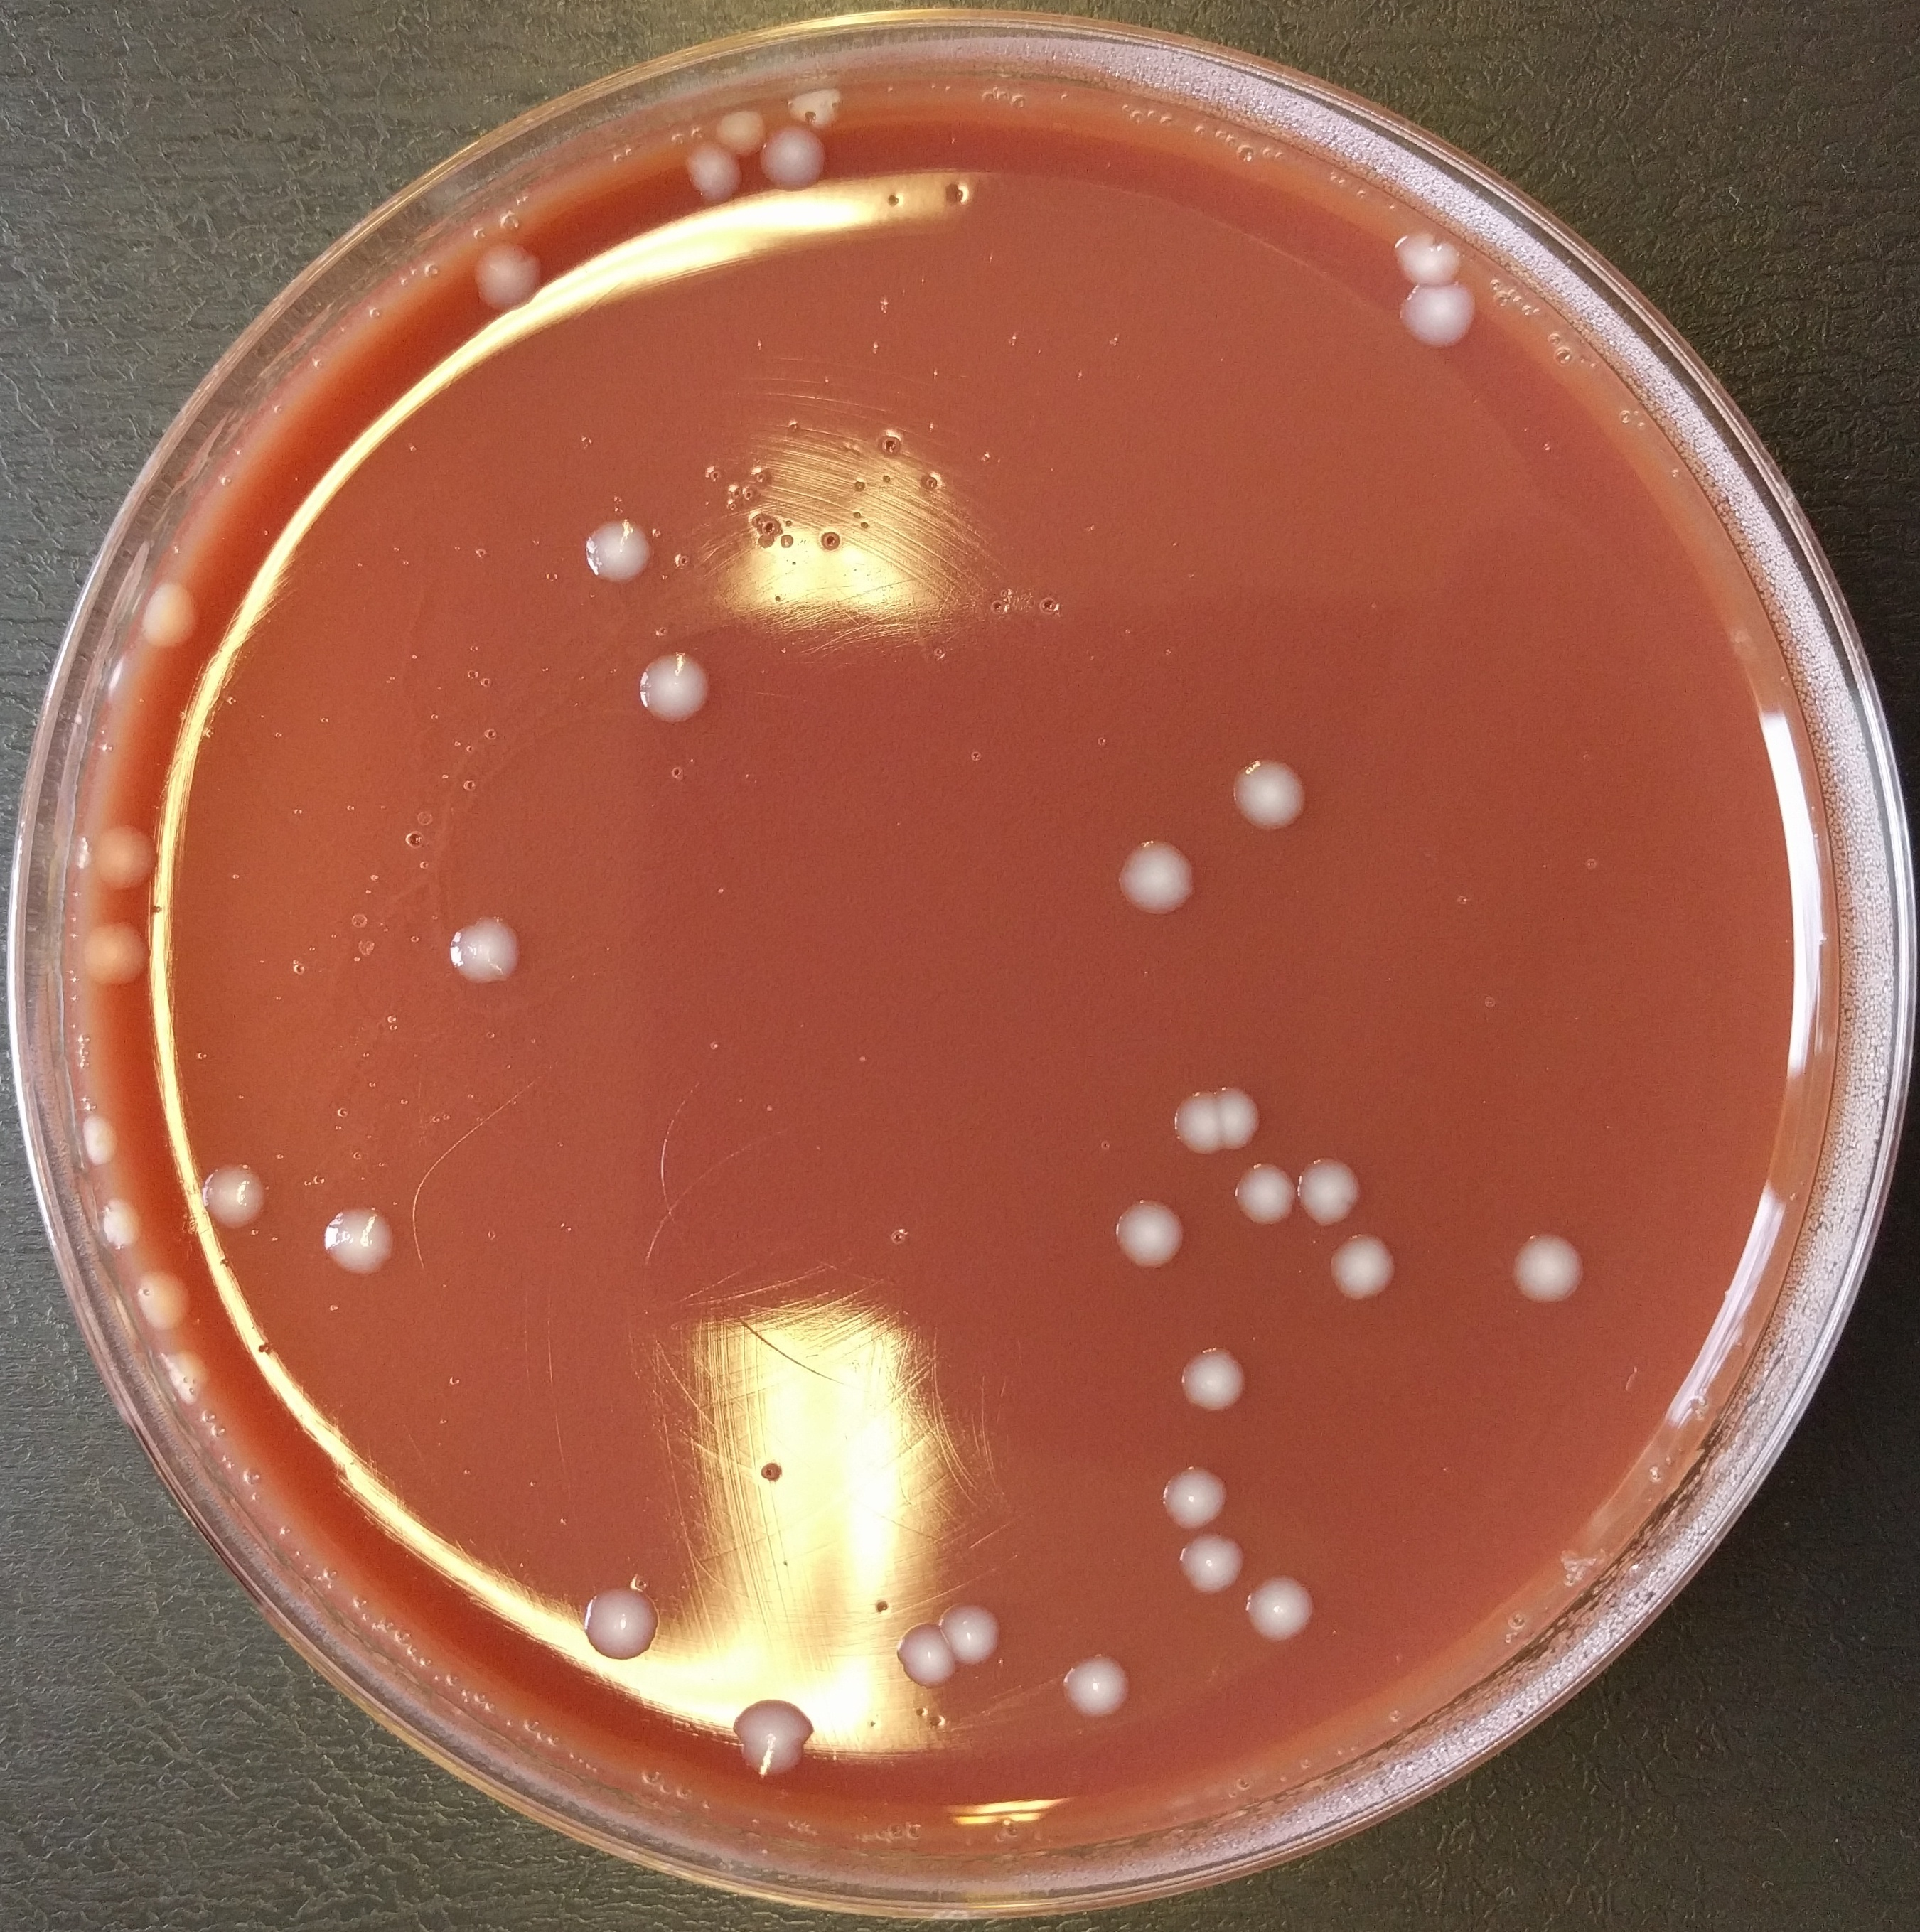sp02: (1085, 812, 1220, 933), (1225, 1536, 1340, 1658), (1218, 728, 1326, 853), (730, 1681, 837, 1795), (1317, 1213, 1426, 1324), (571, 1561, 682, 1668), (635, 622, 731, 730), (1043, 1638, 1150, 1735), (867, 1600, 964, 1702), (1233, 1132, 1315, 1250), (320, 1192, 425, 1282), (1159, 1522, 1262, 1612), (1503, 1202, 1593, 1303), (1384, 283, 1489, 367), (1138, 1456, 1245, 1538), (1106, 1185, 1199, 1278), (476, 216, 563, 316), (941, 1579, 1030, 1672), (1380, 207, 1473, 290), (1159, 1069, 1236, 1162), (70, 914, 156, 997), (441, 918, 545, 986), (1303, 1136, 1382, 1225), (88, 816, 176, 895), (751, 121, 851, 190), (1162, 1336, 1262, 1405), (186, 1157, 281, 1229), (1211, 1069, 1284, 1162), (580, 506, 672, 578), (141, 570, 211, 659), (144, 1336, 220, 1412), (134, 1262, 207, 1334), (60, 1093, 127, 1173), (98, 1181, 148, 1267), (680, 139, 742, 202), (723, 79, 767, 149)
